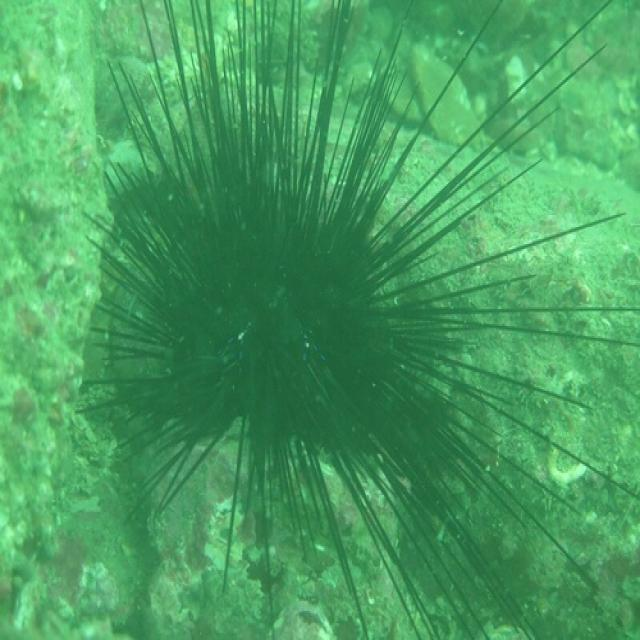Urchin: (73, 27, 591, 596)
